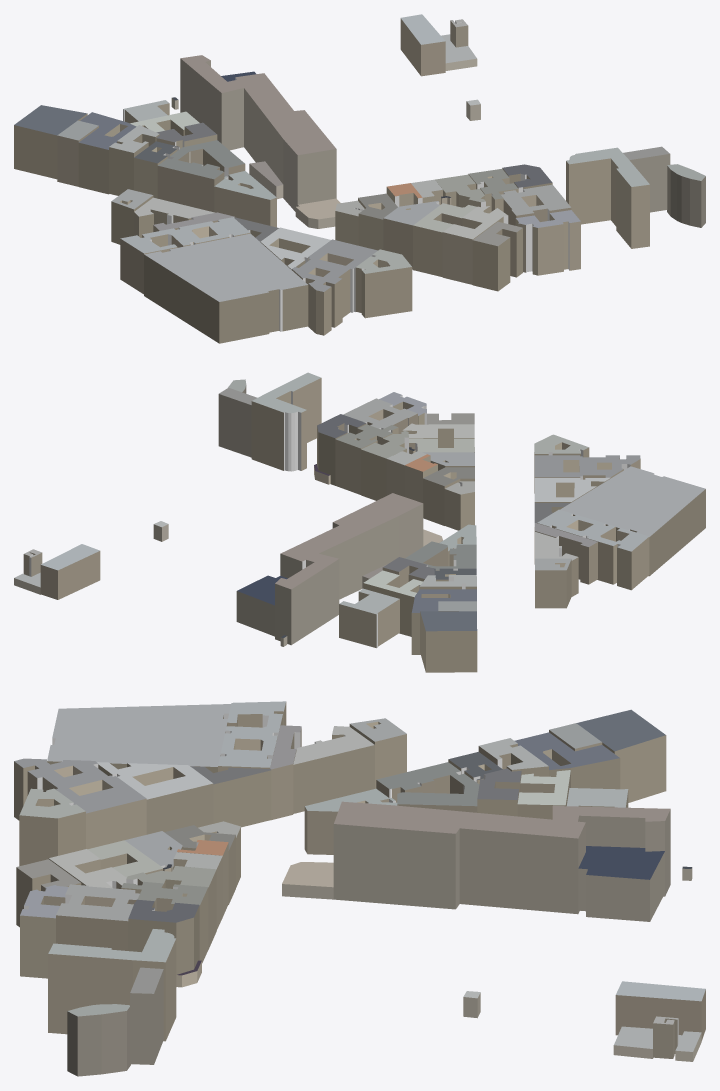
3 renders of one model, top to bottom at view 1: azimuth 30°, elevation 25°; view 2: azimuth 150°, elevation 25°; view 3: azimuth 270°, elevation 25°, orthographic. The views are drawn at different scales.
Visible parts, largest first — view 1: tuile; view 2: tuile; view 3: tuile.
Boxes of the visible parts, x1,y1,x2,y2 form: tuile: (14,14,705,343); tuile: (14,372,705,672); tuile: (14,701,705,1076).
Bounding box in the file's own units: 277 × 34.83 × 258.
